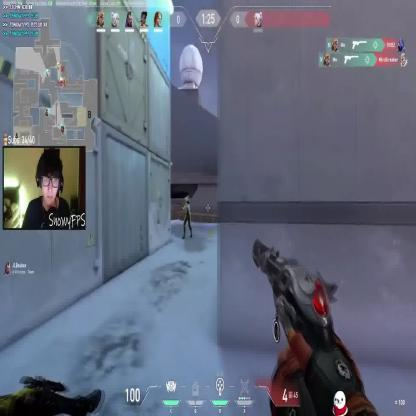enemy: (182, 194, 192, 238)
enemy_head: (183, 196, 189, 204)
